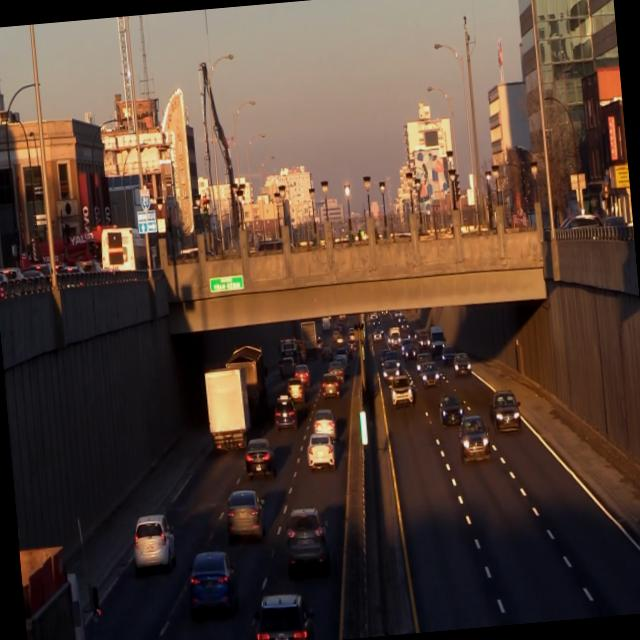Vehicle: (280, 502, 338, 580), (200, 364, 251, 450), (182, 546, 240, 618), (247, 590, 319, 640), (128, 512, 182, 578), (221, 489, 268, 549), (458, 413, 492, 466), (242, 435, 276, 479), (490, 390, 522, 432), (304, 434, 336, 470), (438, 394, 465, 428), (389, 376, 415, 408), (272, 398, 296, 432), (310, 408, 337, 436), (420, 360, 440, 390), (452, 351, 472, 377)
